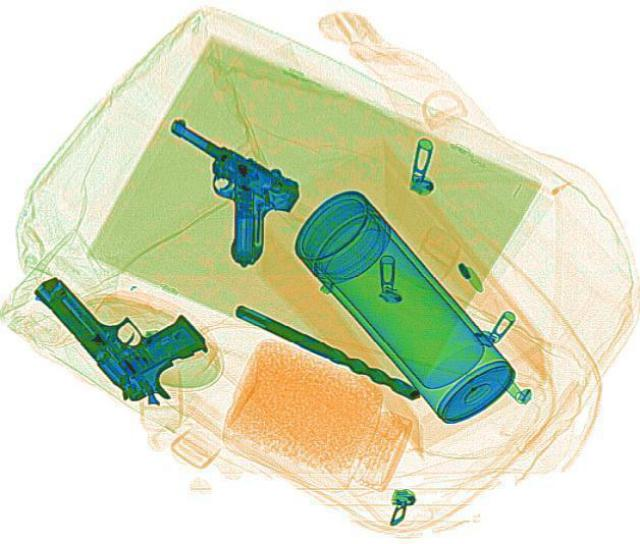Gun: (104, 111, 320, 268), (28, 241, 226, 411)
